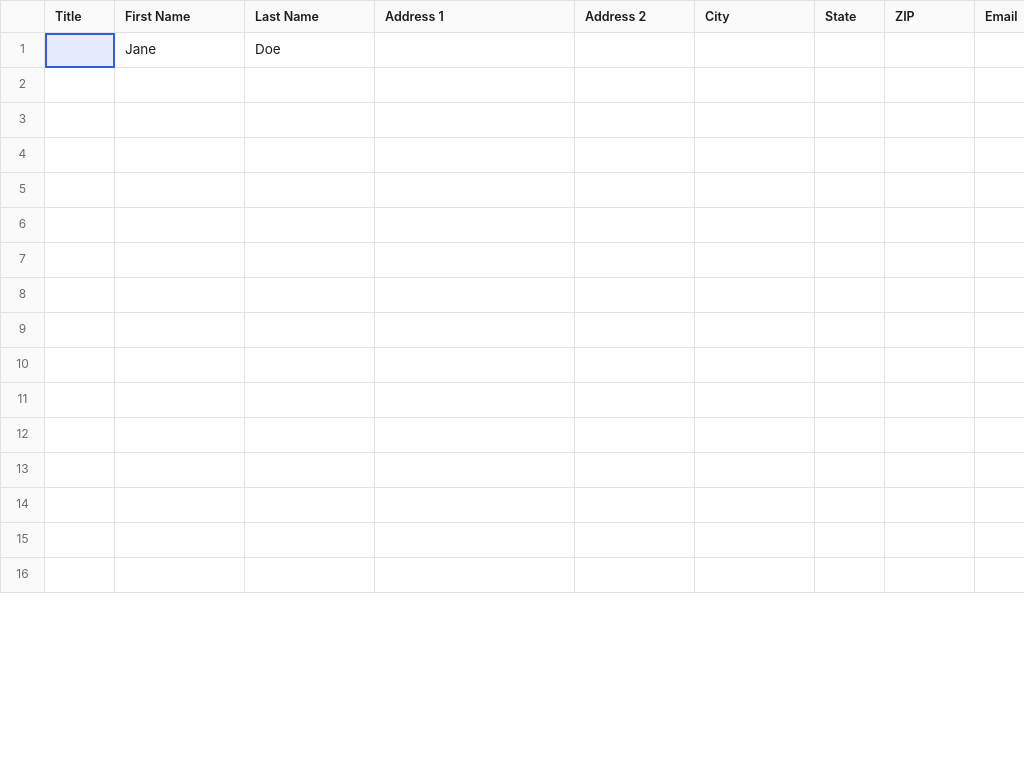
Scenario: row header: select row / open Contact View › double click on the row header opens Contact View
This screenshot has width=1024, height=768.
Press the mouse on the cell with class "row-header-cell" showing "1" at point(22, 50), box x1=0 y1=32 x2=44 y2=68
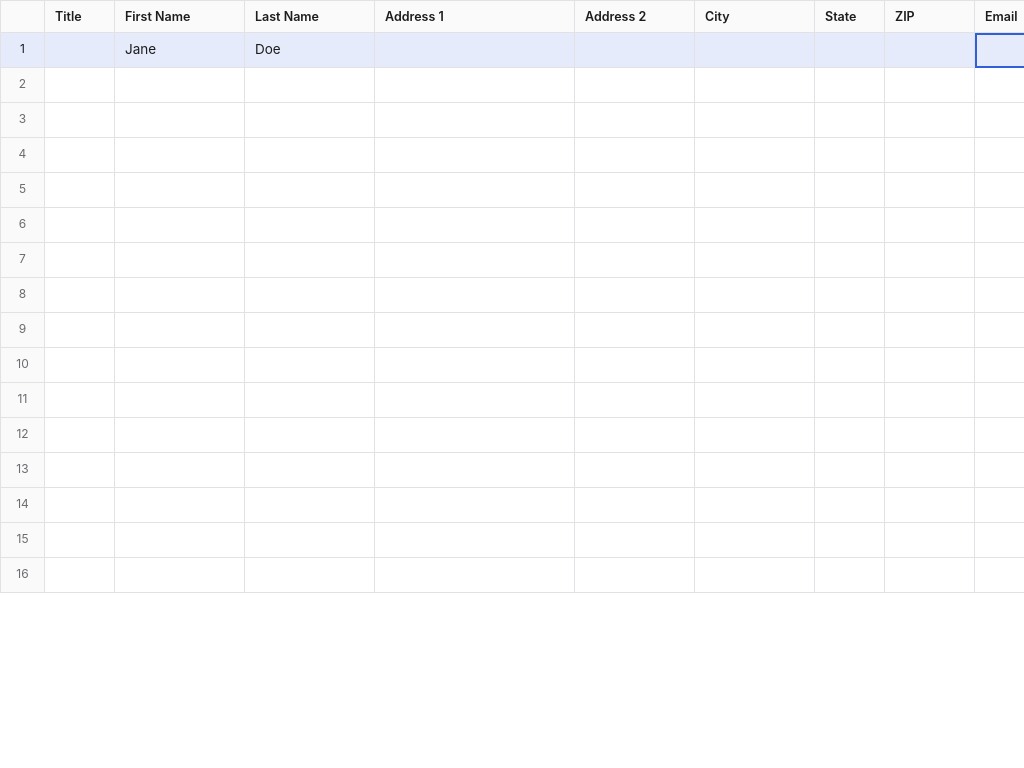
Double-click the cell with class "row-header-cell" showing "1".
double_click(22, 50)  # box x1=0 y1=32 x2=44 y2=68
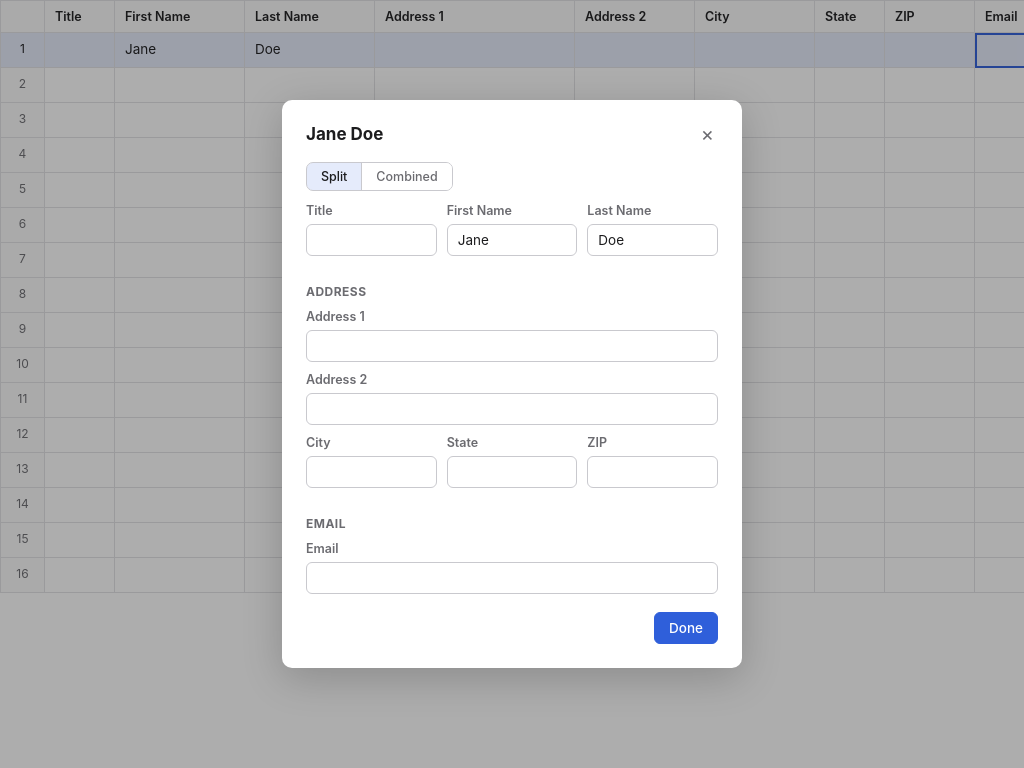
Expected: the heading "Jane Doe" is shown, x1=306 y1=124 x2=383 y2=144
Expected: the tab "Split" is shown, x1=307 y1=163 x2=361 y2=190
Expected: the tab "Combined" is shown, x1=361 y1=163 x2=452 y2=190
